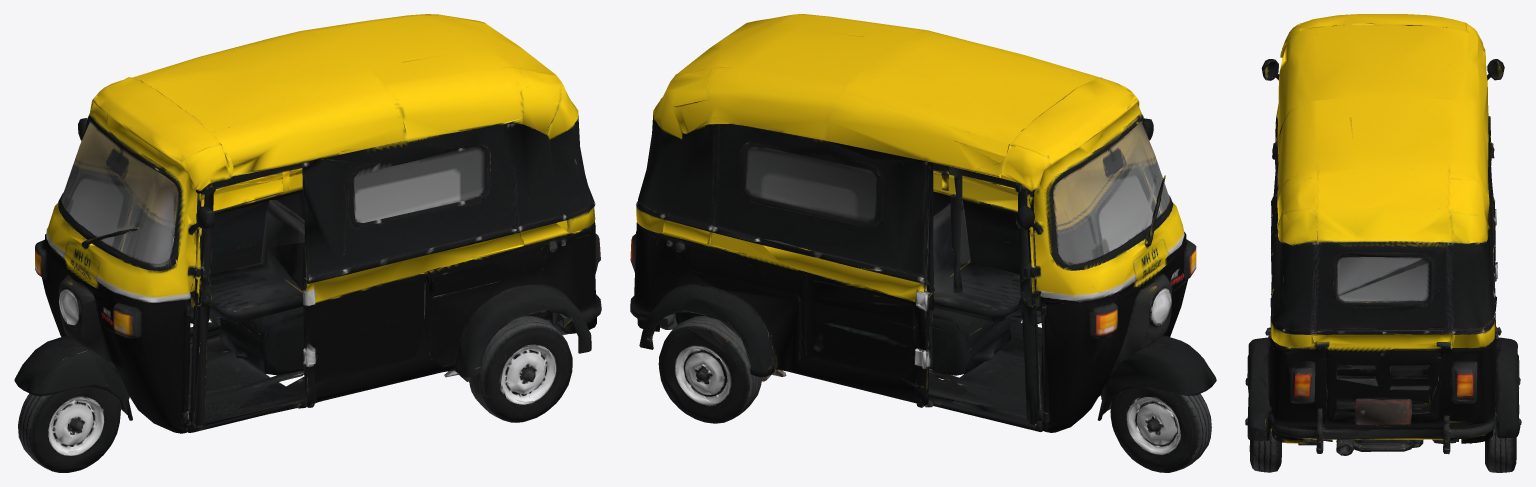
The model's file is auto kart.glb.
The picture shows the model from 3 angles, left to right: view 1: azimuth 30°, elevation 25°; view 2: azimuth 150°, elevation 25°; view 3: azimuth 270°, elevation 25°; orthographic projection. The views are drawn at different scales.
Size of the model in its own units: 2 by 1.23 by 0.9566.
Materials: 1 (1 with a texture image).
